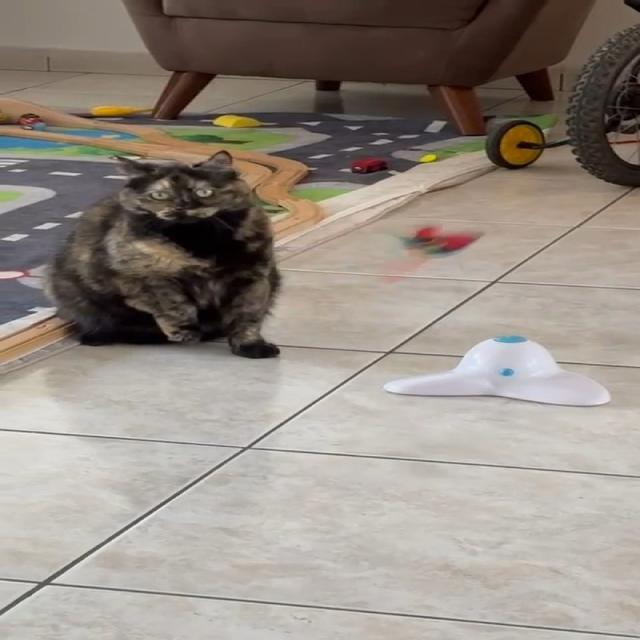authorized: (40, 148, 283, 358)
